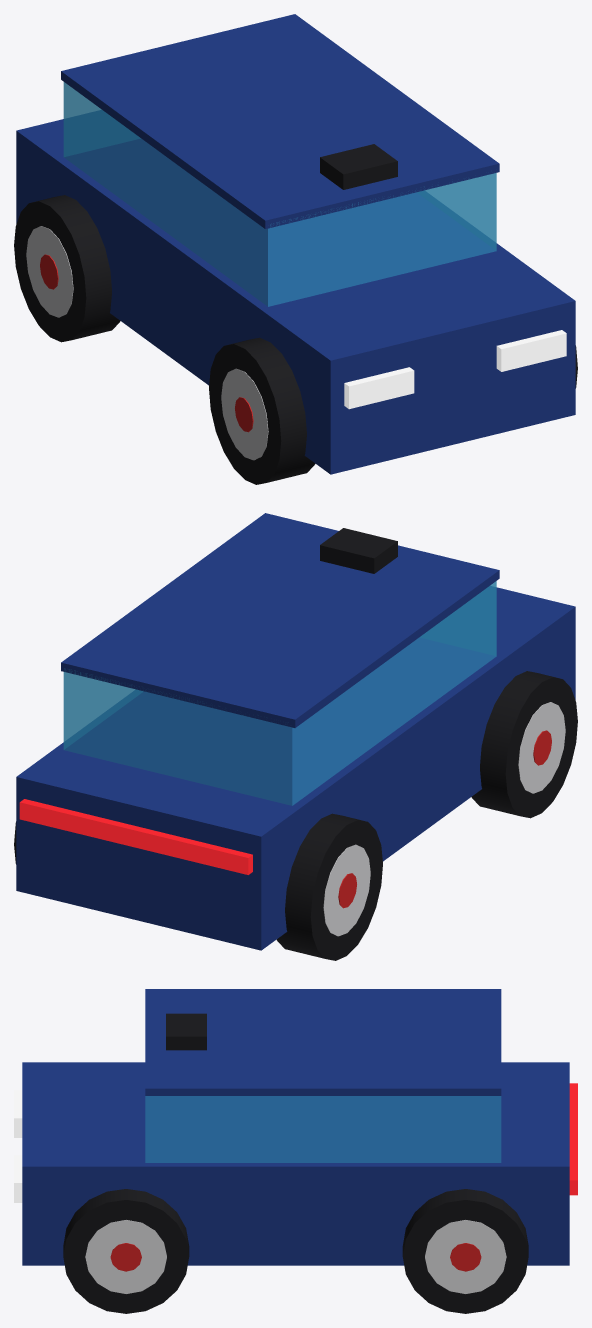
Rendered from volvo_ex90.glb.
The picture shows the model from 3 angles, top to bottom: view 1: azimuth 30°, elevation 25°; view 2: azimuth 150°, elevation 25°; view 3: azimuth 270°, elevation 25°; orthographic projection. The views are drawn at different scales.
Size of the model in its own units: 0.5335 by 0.4417 by 1.
